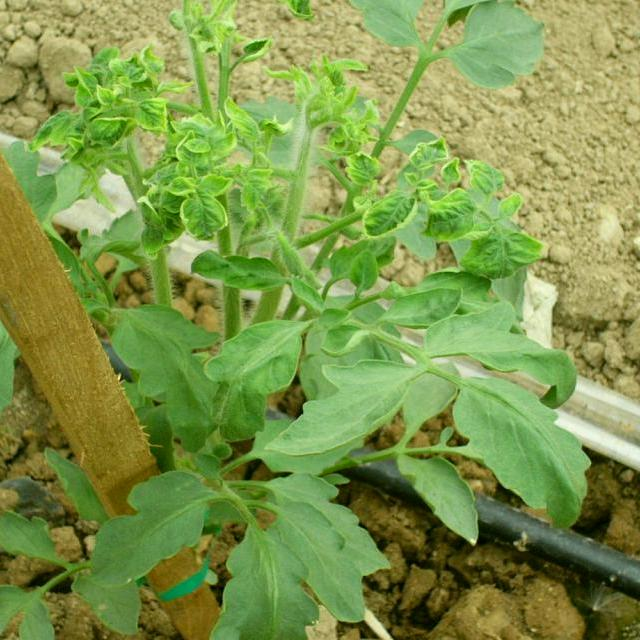Tomato leaf: (454, 374, 585, 539), (281, 337, 450, 450), (103, 293, 225, 440), (87, 469, 211, 592), (266, 499, 380, 622), (206, 519, 319, 640), (445, 0, 547, 94), (394, 448, 482, 542), (347, 0, 441, 66), (0, 501, 72, 565), (375, 283, 463, 333), (0, 289, 12, 451)
